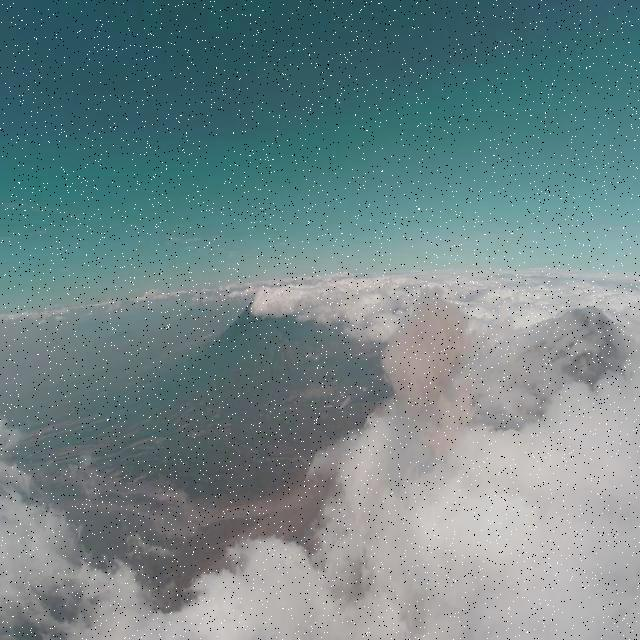Plume: (376, 280, 482, 465)
